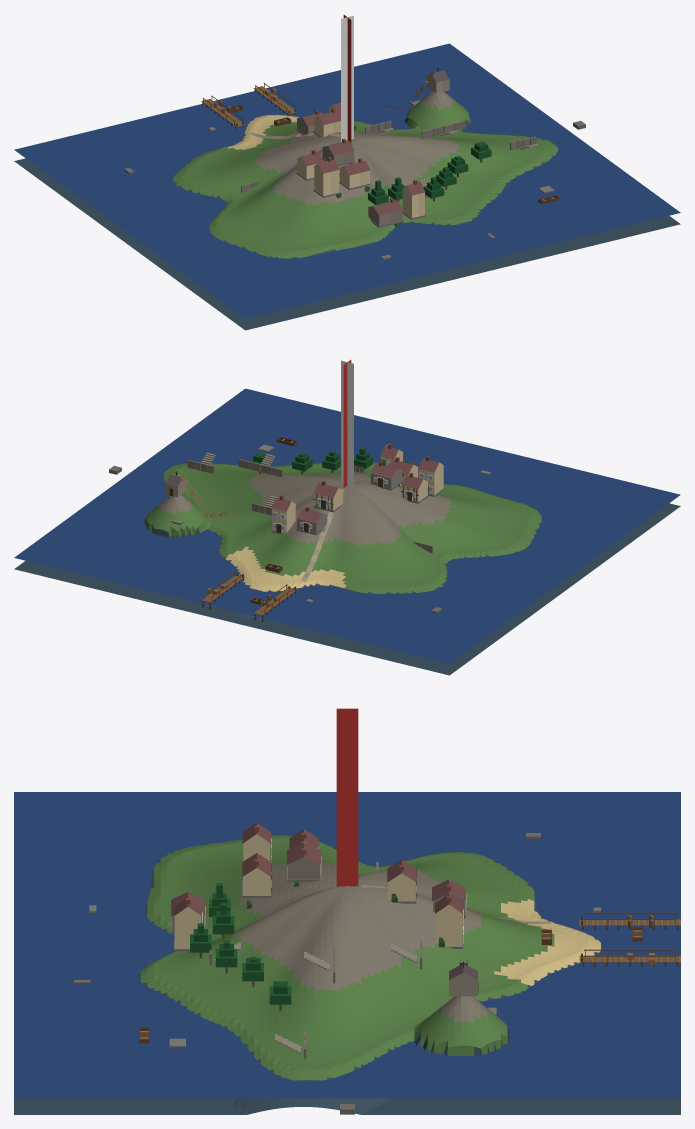
Rendered from scene_bad_v5_bridge_float.obj.
3 renders of one model, top to bottom at view 1: azimuth 30°, elevation 25°; view 2: azimuth 150°, elevation 25°; view 3: azimuth 270°, elevation 25°, orthographic. The views are drawn at different scales.
Visible parts, largest first — view 1: water, terrain, lighthouse_tower, house_3_two_story, house_9_two_story, house_4_timber, house_8_stone, house_2_stone, house_7_timber, wall_3, house_1_timber; view 2: water, terrain, lighthouse_tower, house_6_two_story, house_3_two_story, house_7_timber, house_2_stone, house_5_stone, house_1_timber, wall_3, wall_2, pier_1; view 3: water, terrain, lighthouse_tower, house_6_two_story, house_2_stone, house_4_timber, house_9_two_story, house_7_timber, pier_2, pier_1, house_3_two_story, chapel_1 (+2 smaller).
Part boxes in pixels (<box>): water: <box>14,43,680,318</box>; terrain: <box>14,91,680,330</box>; lighthouse_tower: <box>341,15,353,142</box>; house_3_two_story: <box>313,157,339,197</box>; house_9_two_story: <box>402,179,425,219</box>; house_4_timber: <box>339,158,370,189</box>; house_8_stone: <box>368,198,403,227</box>; house_2_stone: <box>322,138,354,166</box>; house_7_timber: <box>313,108,340,137</box>; wall_3: <box>365,120,538,150</box>; house_1_timber: <box>296,150,323,180</box>; water: <box>14,388,680,663</box>; terrain: <box>14,462,680,675</box>; lighthouse_tower: <box>341,360,353,487</box>; house_6_two_story: <box>271,495,295,534</box>; house_3_two_story: <box>418,456,444,496</box>; house_7_timber: <box>313,480,343,512</box>; house_2_stone: <box>370,461,402,490</box>; house_5_stone: <box>296,506,327,535</box>; house_1_timber: <box>401,472,428,503</box>; wall_3: <box>187,452,278,515</box>; wall_2: <box>238,454,282,477</box>; pier_1: <box>253,584,297,621</box>; water: <box>14,792,680,1098</box>; terrain: <box>14,835,680,1114</box>; lighthouse_tower: <box>336,708,358,886</box>; house_6_two_story: <box>435,894,463,948</box>; house_2_stone: <box>287,842,321,881</box>; house_4_timber: <box>242,853,271,897</box>; house_9_two_story: <box>174,897,202,951</box>; house_7_timber: <box>387,859,416,903</box>; pier_2: <box>579,949,680,966</box>; pier_1: <box>579,912,680,929</box>; house_3_two_story: <box>242,822,271,878</box>; chapel_1: <box>449,961,478,996</box>.
Size of the model in its own units: 104 by 38.5 by 92.
